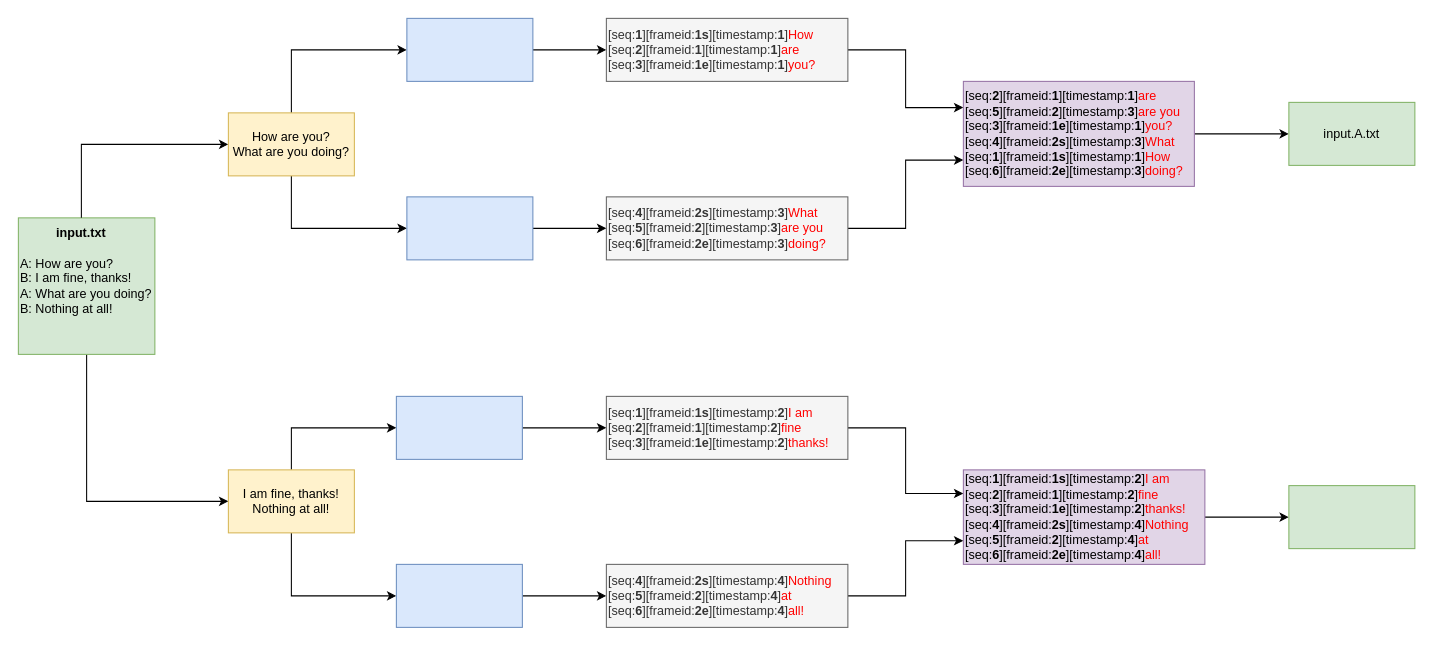
The diagram is 1433 pixels wide and 646 high, and some of its shapes have lost their labels. Each missing label, with the centre of its shape:
"How are you?" goes at (469,49).
"I am fine, thanks!" goes at (458,427).
"input.B.txt" goes at (1351,517).
"Nothing at all!" goes at (458,595).
"What are you doing?" goes at (469,228).
